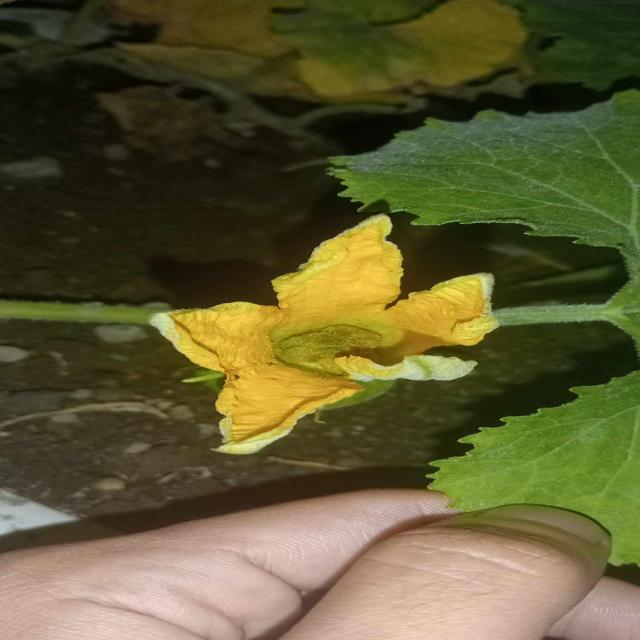flower: (128, 208, 521, 463)
